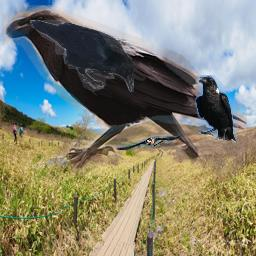Crow: (2, 5, 247, 176), (30, 20, 134, 92), (195, 75, 238, 143)
Swallow: (116, 133, 181, 150)
